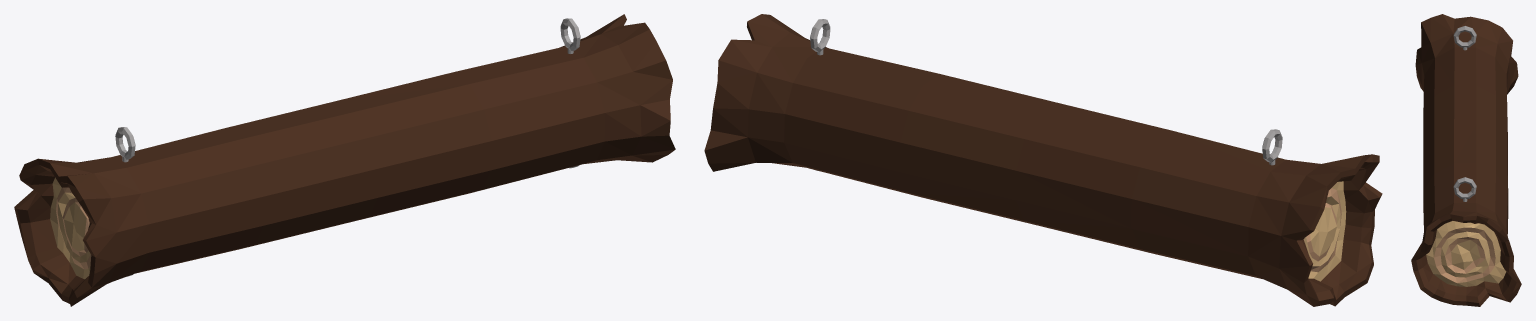
File: PinLog.fbx
3 views of the same model, side by side, from view 1: azimuth 30°, elevation 25°; view 2: azimuth 150°, elevation 25°; view 3: azimuth 270°, elevation 25° (orthographic). The views are drawn at different scales.
Parts seen in each view (by area): view 1: PinLog; view 2: PinLog; view 3: PinLog.
Part boxes in pixels (x1,y1,x2,y2): PinLog: [14, 14, 675, 306]; PinLog: [704, 14, 1382, 306]; PinLog: [1411, 14, 1521, 306].
Size of the model in its own units: 363 by 91.76 by 83.61.
